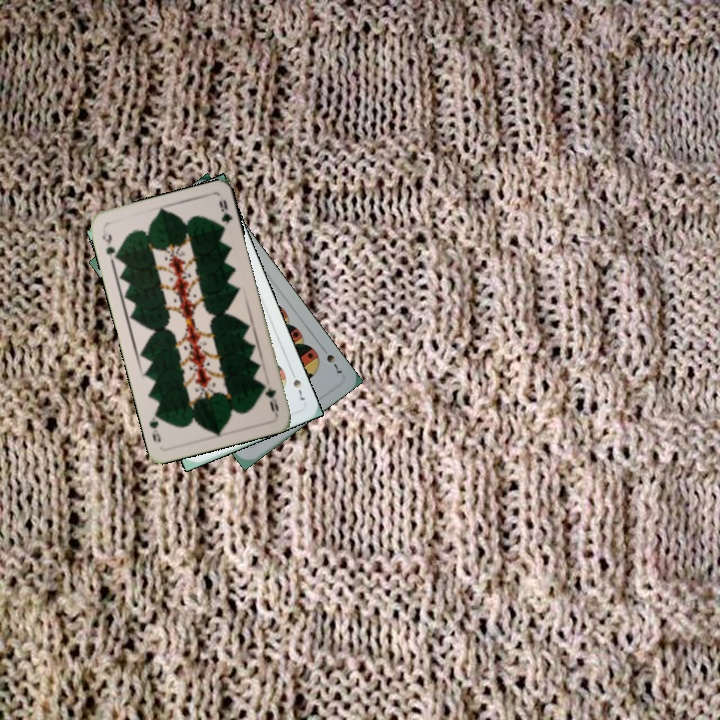G9: (98, 225, 121, 265), (258, 379, 281, 417)
S7: (287, 366, 309, 403), (322, 350, 346, 376)
